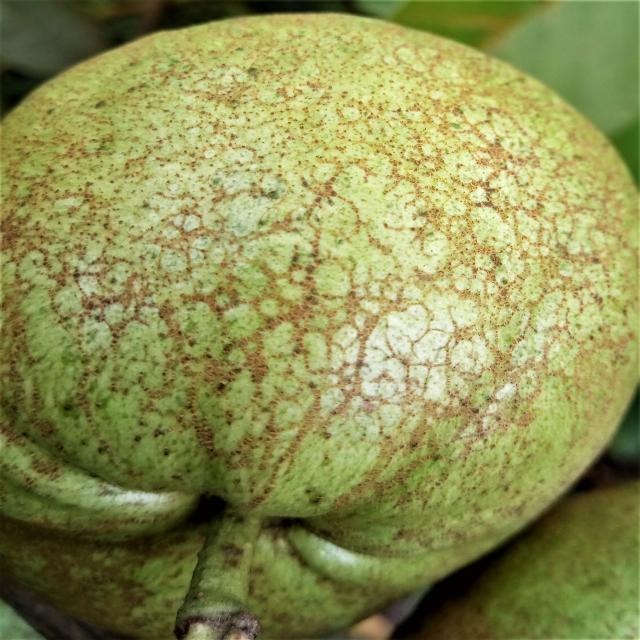Scab: (0, 15, 636, 640)
